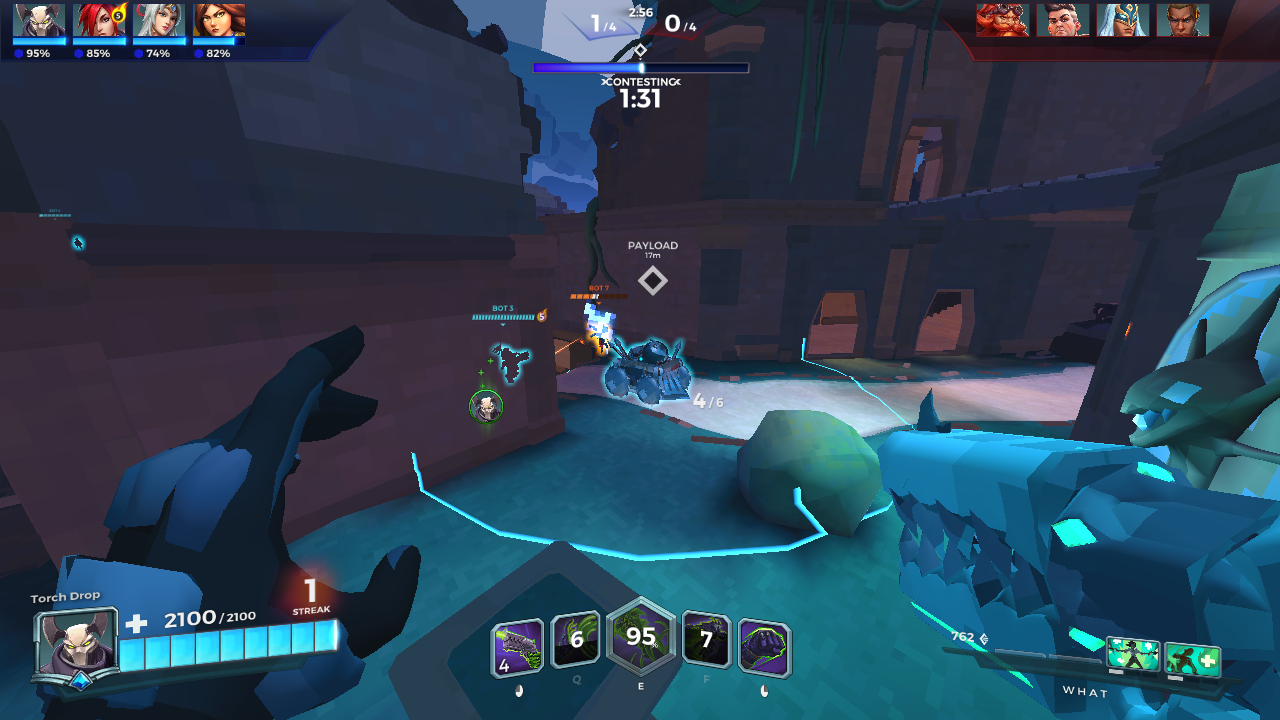model: (590, 319, 610, 359)
